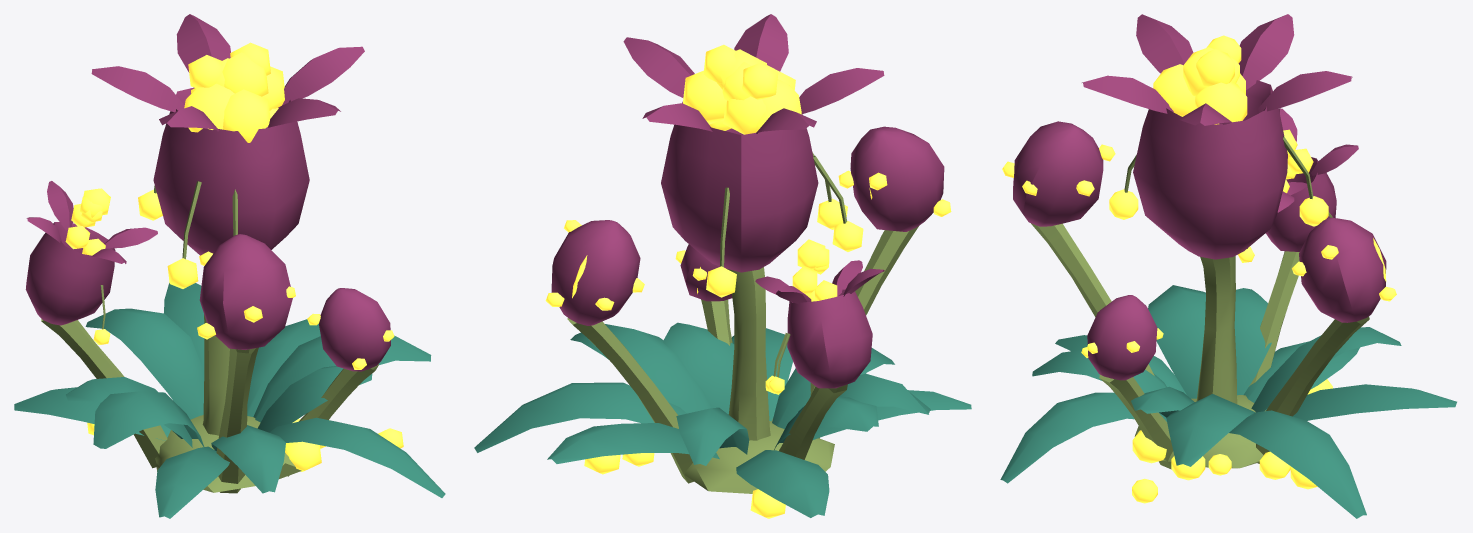
File: spore_pod_a.glb
The picture shows the model from 3 angles, left to right: view 1: azimuth 30°, elevation 25°; view 2: azimuth 150°, elevation 25°; view 3: azimuth 270°, elevation 25°; orthographic projection. The views are drawn at different scales.
Visible parts, largest first — view 1: spore_pod_a; view 2: spore_pod_a; view 3: spore_pod_a.
Boxes of the visible parts, x1,y1,x2,y2 form: spore_pod_a: (14,14,445,518); spore_pod_a: (474,14,971,518); spore_pod_a: (1000,14,1456,518).
Size of the model in its own units: 1.48 by 1.6 by 1.62.
